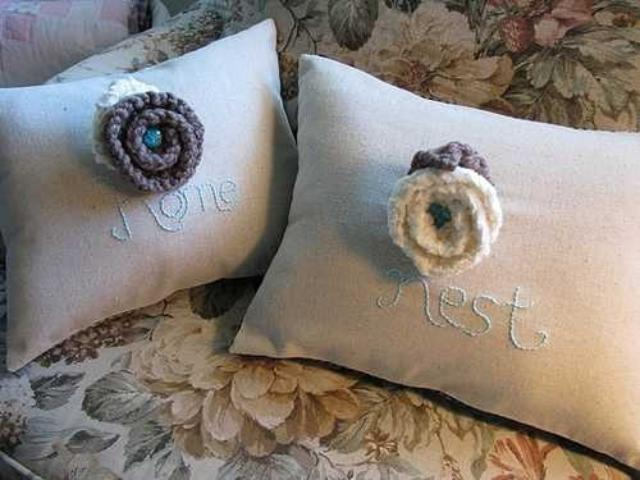pillow: (227, 53, 639, 474), (0, 16, 298, 374)
